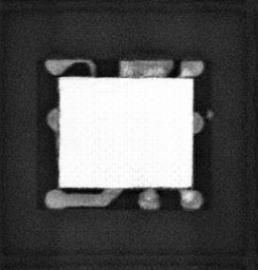DIE_INK: (206, 109, 214, 120)
